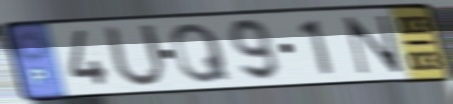1: (298, 17, 336, 77)
4: (67, 27, 112, 90)
9: (224, 17, 284, 83)
N: (341, 13, 406, 77)
Q: (168, 21, 234, 86)
U: (100, 22, 170, 90)
